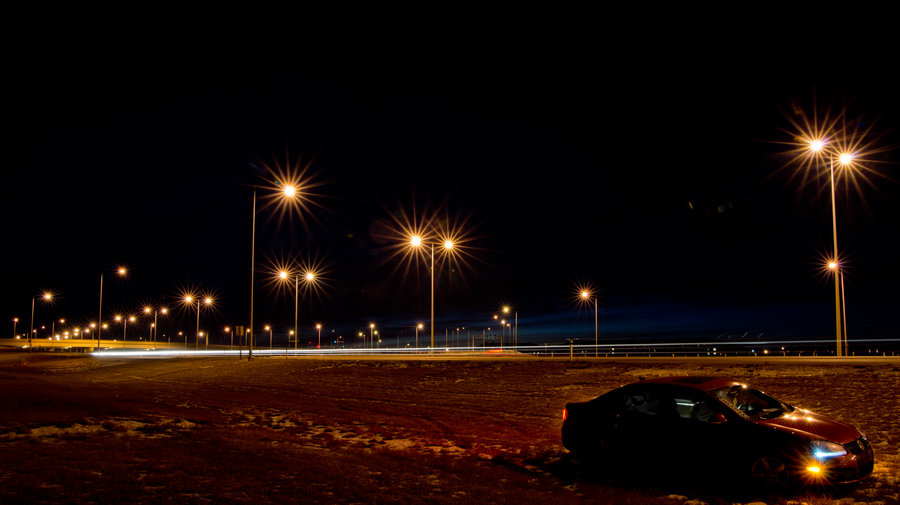car: (555, 372, 878, 502)
